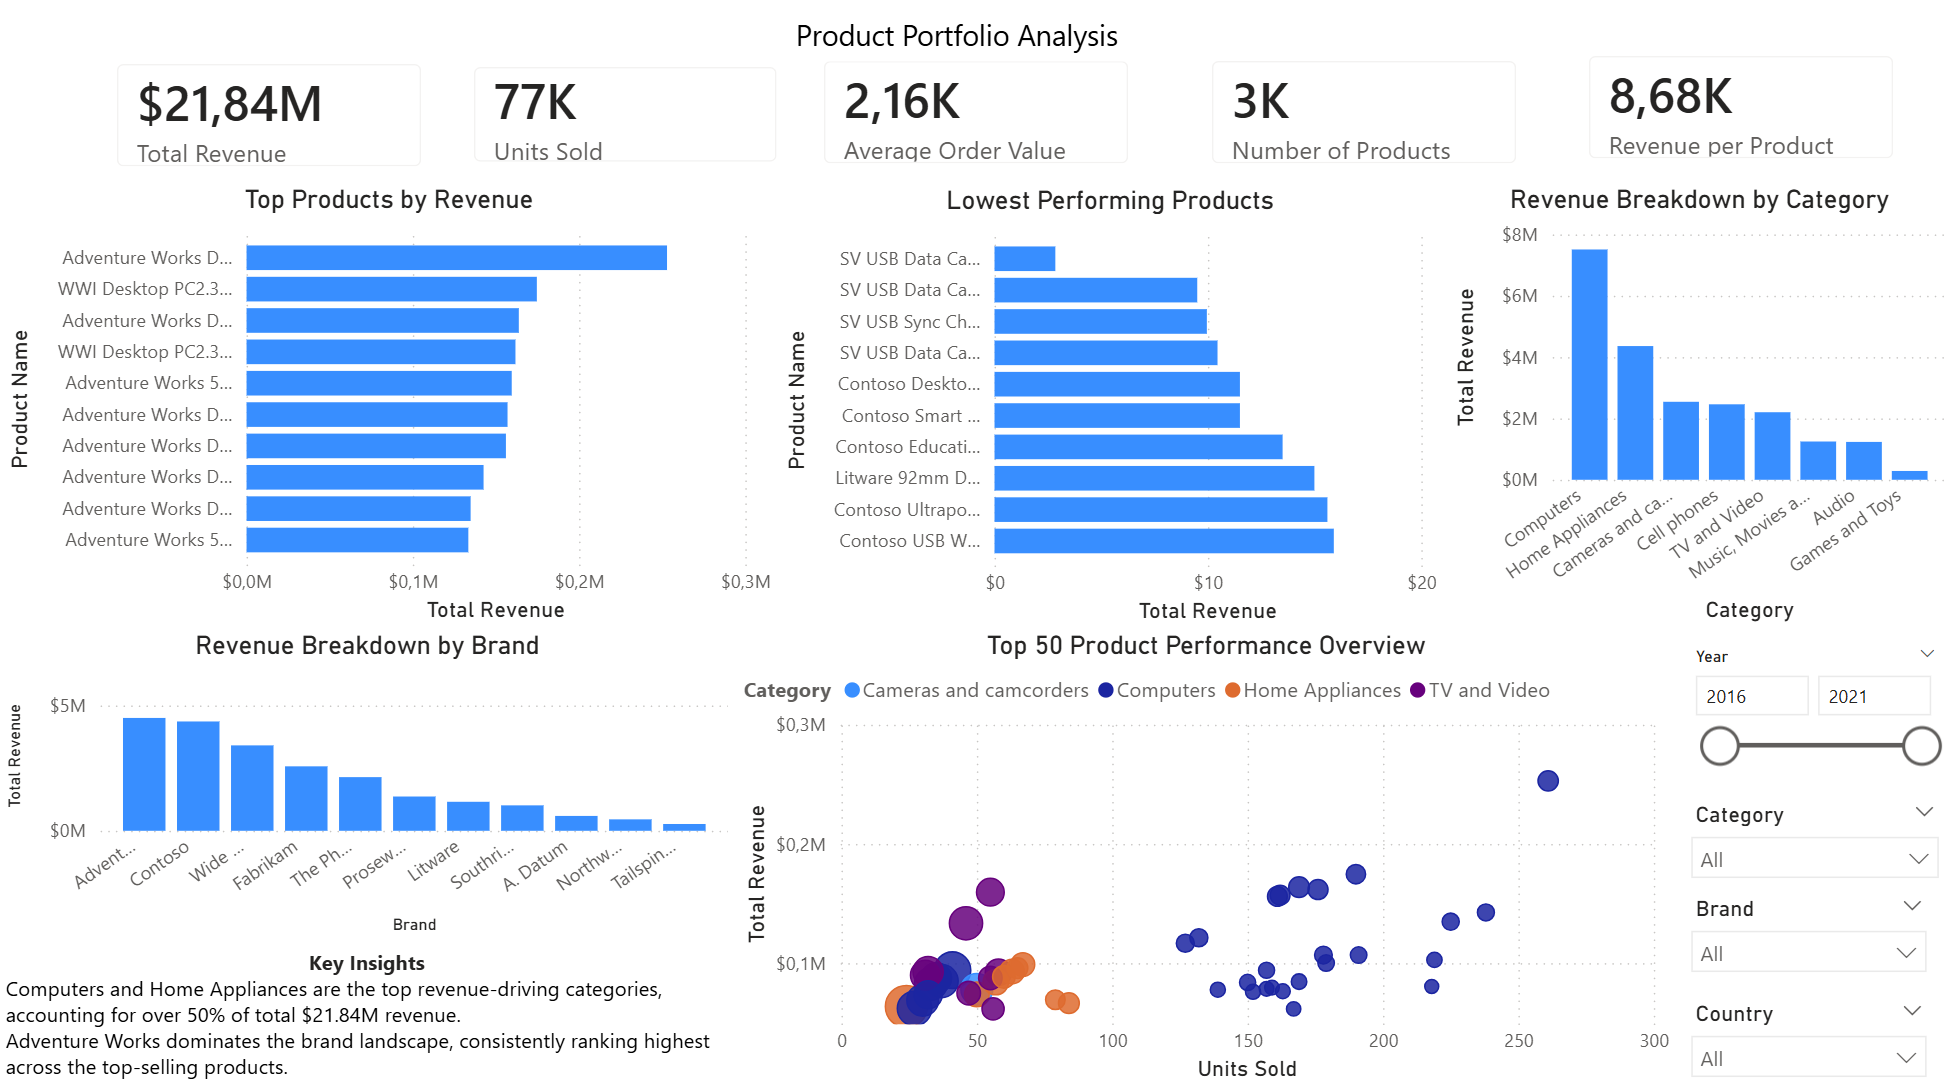

The page's visual inventory and layout, read from the dashboard file:
{"tool":"powerbi","page":{"name":"Product Portfolio Analysis","canvas":[1280,720],"ordinal":2},"visuals":[{"type":"cardVisual","fields":{"Data":["Sales.Total Revenue"]},"box":[61,31.2,233.2,101.7],"z":0},{"type":"cardVisual","fields":{"Data":["Sales.Units Sold"]},"box":[294.2,33.2,232.5,96.9],"z":1000},{"type":"cardVisual","fields":{"Data":["Sales.Average Order Value"]},"box":[523.4,29.2,233.2,101],"z":2000},{"type":"cardVisual","fields":{"Data":["Products.Number of Products"]},"box":[777.6,29.2,233.2,101],"z":3000},{"type":"cardVisual","fields":{"Data":["Products.Revenue per Product"]},"box":[1024.4,26.4,233.2,101],"z":4000},{"type":"clusteredBarChart","title":"\tTop Products by Revenue","fields":{"Category":["Products.Product Name"],"Y":["Sales.Total Revenue"]},"box":[0.7,127.3,510.4,291.6],"z":5000},{"type":"clusteredBarChart","title":"Lowest Performing Products","fields":{"Category":["Products.Product Name"],"Y":["Sales.Total Revenue"]},"box":[509.2,127.5,437.3,291.5],"z":6000},{"type":"columnChart","title":"Revenue Breakdown by Category","fields":{"Category":["Products.Category"],"Y":["Sales.Total Revenue"]},"box":[946.7,127.3,333.3,291.6],"z":7000},{"type":"scatterChart","title":"Top 50 Product Performance Overview","fields":{"X":["Sales.Units Sold"],"Y":["Sales.Total Revenue"],"Series":["Products.Category"],"Size":["Sales.Average Order Value"],"Category":["Products.Product Name"]},"box":[482.7,419,615.6,300.3],"z":8000},{"type":"columnChart","title":"Revenue Breakdown by Brand","fields":{"Category":["Products.Brand"],"Y":["Sales.Total Revenue"]},"box":[0.7,419,482,203.4],"z":9000},{"type":"slicer","fields":{"Values":["Calendar.Year"]},"box":[1098.2,424.9,181.8,119.2],"z":10000},{"type":"slicer","fields":{"Values":["Products.Category"]},"box":[1098.2,525.9,181.8,61.9],"z":11000},{"type":"slicer","fields":{"Values":["Products.Brand"]},"box":[1098.2,587.8,173.7,68.7],"z":12000},{"type":"slicer","fields":{"Values":["Customers.Country"]},"box":[1098.2,656.5,173.7,63.3],"z":13000},{"type":"textbox","box":[478,11.5,299.7,34.6],"z":13001},{"type":"textbox","box":[0,622.4,482.7,97.6],"z":13002}]}

Visuals, with their boxes in screenshot pixels (x1, y1, x2, y2), scaled from the page's 1280x720 canvas onto the 1950x1090 screenshot:
cardVisual - Sales.Total Revenue: (93,47,448,201)
cardVisual - Sales.Units Sold: (448,50,802,197)
cardVisual - Sales.Average Order Value: (797,44,1153,197)
cardVisual - Products.Number of Products: (1185,44,1540,197)
cardVisual - Products.Revenue per Product: (1561,40,1916,193)
"	Top Products by Revenue" clusteredBarChart: (1,193,779,634)
"Lowest Performing Products" clusteredBarChart: (776,193,1442,634)
"Revenue Breakdown by Category" columnChart: (1442,193,1949,634)
"Top 50 Product Performance Overview" scatterChart: (735,634,1673,1089)
"Revenue Breakdown by Brand" columnChart: (1,634,735,942)
slicer - Calendar.Year: (1673,643,1949,824)
slicer - Products.Category: (1673,796,1949,890)
slicer - Products.Brand: (1673,890,1938,994)
slicer - Customers.Country: (1673,994,1938,1089)
textbox: (728,17,1185,70)
textbox: (0,942,735,1089)
